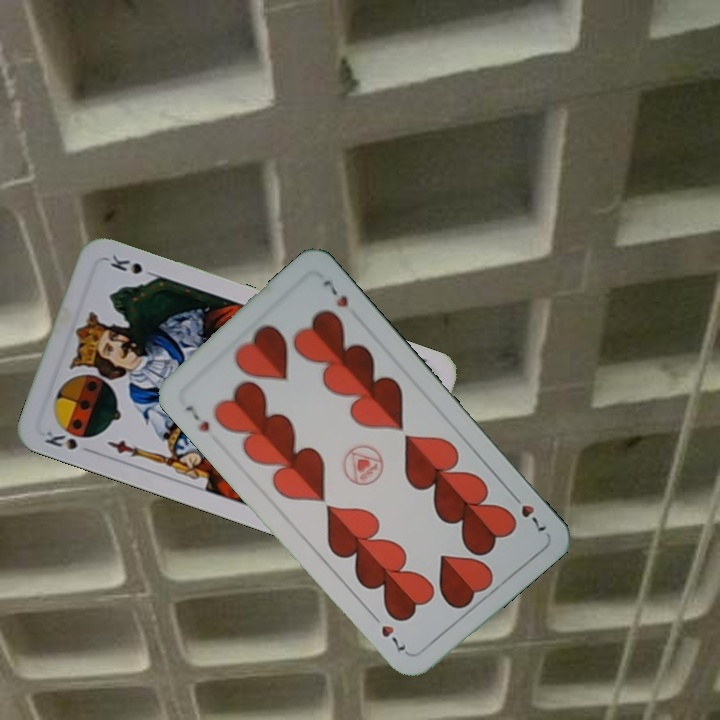H7: (506, 487, 549, 534), (181, 401, 212, 435)
SK: (40, 426, 80, 453)
